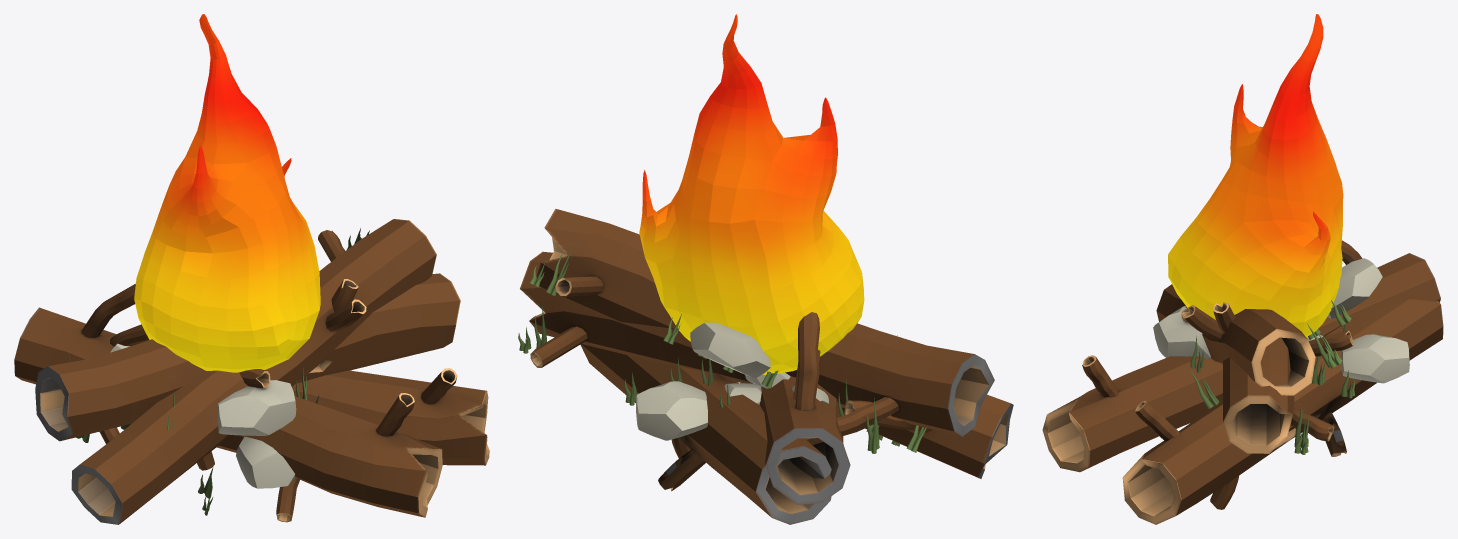
File: modelcampfire.gltf
3 renders of one model, left to right at view 1: azimuth 30°, elevation 25°; view 2: azimuth 150°, elevation 25°; view 3: azimuth 270°, elevation 25°, orthographic. The views are drawn at different scales.
Visible parts, largest first — view 1: fire3:Group20972, pCylinder9_lambert1_0.001, pCylinder9_lambert1_0.002, pCylinder9, pCylinder9_lambert1_0.003, pPlatonic9, pPlatonic9_lambert1_0.001, pCone25_lambert1_0.001; view 2: fire3:Group20972, pCylinder9, pCylinder9_lambert1_0.001, pCylinder9_lambert1_0.003, pCylinder9_lambert1_0.002, pPlatonic9, pPlatonic9_lambert1_0.001, pCone25, pCone25_lambert1_0.001; view 3: fire3:Group20972, pCylinder9_lambert1_0.003, pCylinder9_lambert1_0.002, pCylinder9, pCylinder9_lambert1_0.001, pPlatonic9, pPlatonic9_lambert1_0.001, pCone25, pCone25_lambert1_0.001.
Boxes of the visible parts, bbox=[...] form: fire3:Group20972: bbox=[134, 14, 320, 372]; pCylinder9_lambert1_0.001: bbox=[71, 219, 436, 524]; pCylinder9_lambert1_0.002: bbox=[14, 283, 442, 522]; pCylinder9: bbox=[35, 273, 460, 441]; pCylinder9_lambert1_0.003: bbox=[110, 324, 489, 465]; pPlatonic9: bbox=[217, 380, 296, 435]; pPlatonic9_lambert1_0.001: bbox=[110, 343, 295, 488]; pCone25_lambert1_0.001: bbox=[76, 228, 369, 515]; fire3:Group20972: bbox=[639, 14, 864, 374]; pCylinder9: bbox=[520, 251, 994, 444]; pCylinder9_lambert1_0.001: bbox=[536, 208, 1013, 478]; pCylinder9_lambert1_0.003: bbox=[580, 344, 831, 524]; pCylinder9_lambert1_0.002: bbox=[759, 312, 850, 504]; pPlatonic9: bbox=[636, 381, 761, 440]; pPlatonic9_lambert1_0.001: bbox=[690, 322, 828, 403]; pCone25: bbox=[518, 303, 897, 453]; pCone25_lambert1_0.001: bbox=[529, 242, 926, 452]; fire3:Group20972: bbox=[1168, 14, 1343, 337]; pCylinder9_lambert1_0.003: bbox=[1122, 299, 1443, 524]; pCylinder9_lambert1_0.002: bbox=[1042, 240, 1440, 472]; pCylinder9: bbox=[1181, 302, 1334, 453]; pCylinder9_lambert1_0.001: bbox=[1156, 284, 1353, 395]; pPlatonic9: bbox=[1153, 306, 1409, 383]; pPlatonic9_lambert1_0.001: bbox=[1327, 258, 1382, 318]; pCone25: bbox=[1190, 324, 1355, 454]; pCone25_lambert1_0.001: bbox=[1189, 300, 1351, 409].
Size of the model in its own units: 1.34 by 1.5 by 1.21.
Materials: 9 (9 with a texture image).
